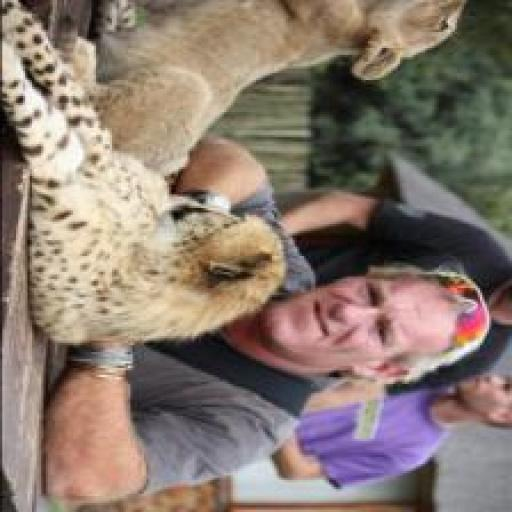lion: (114, 2, 485, 133)
